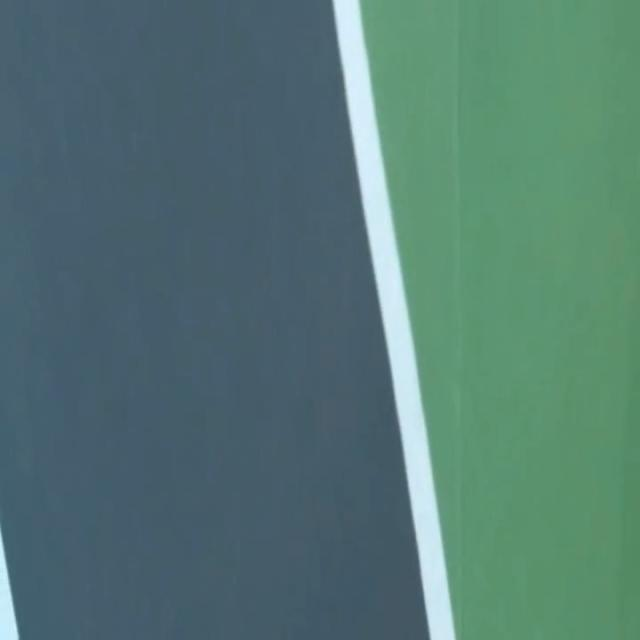center: (0, 528, 19, 639)
right: (332, 0, 455, 639)
